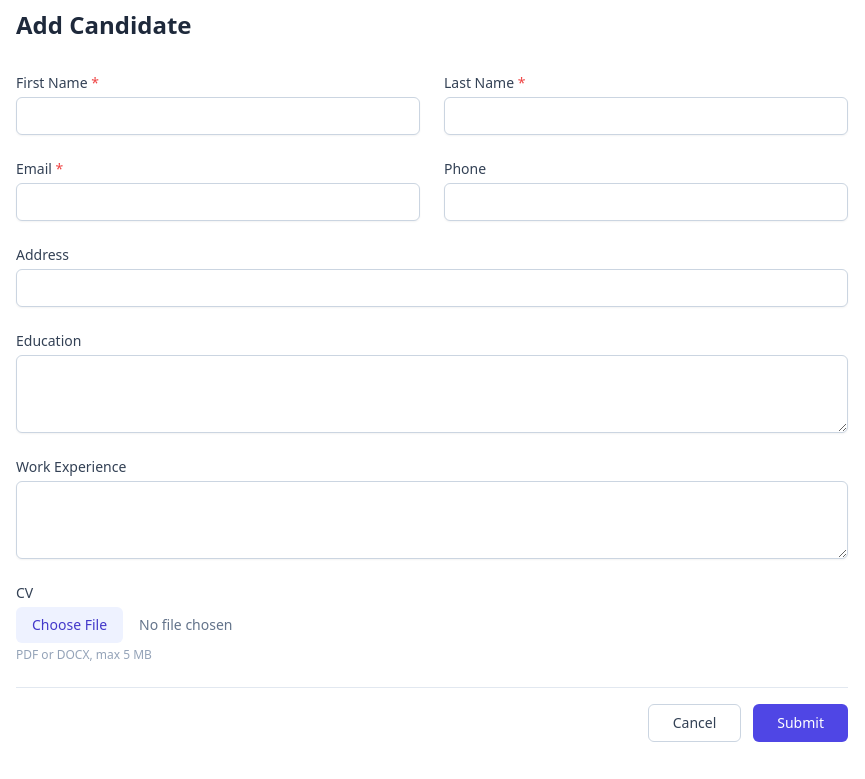
it: AddCandidate validation › shows inline error when email is invalid on submit
The image size is (865, 779).
Type "Alice" into the field labelled "First Name *" at (218, 116), box [16,97,420,135]
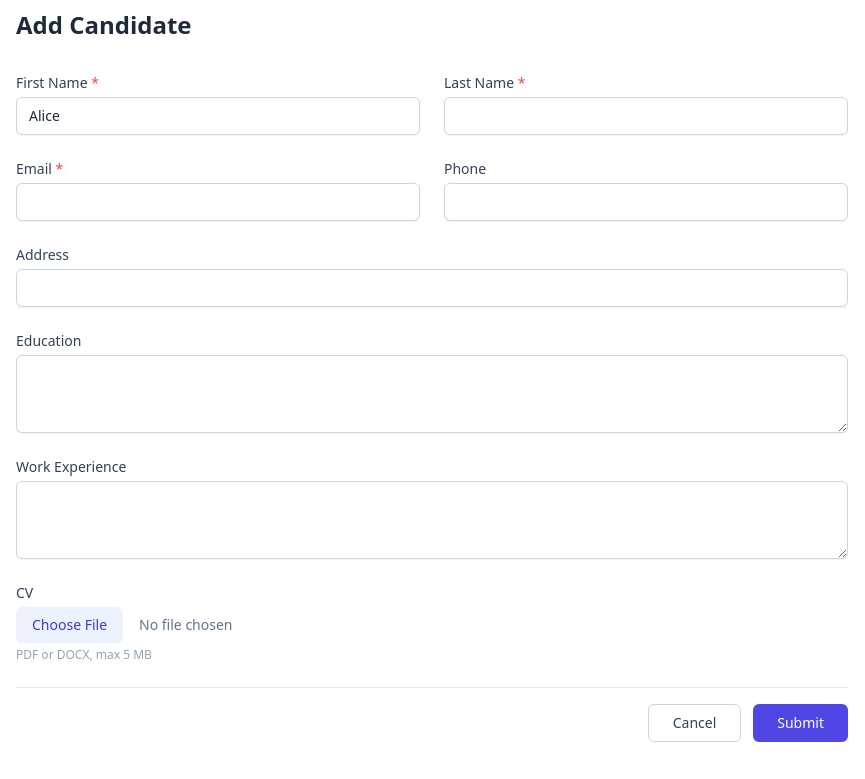
Type "Smith" into the field labelled "Last Name *" at (646, 116), box [444,97,848,135]
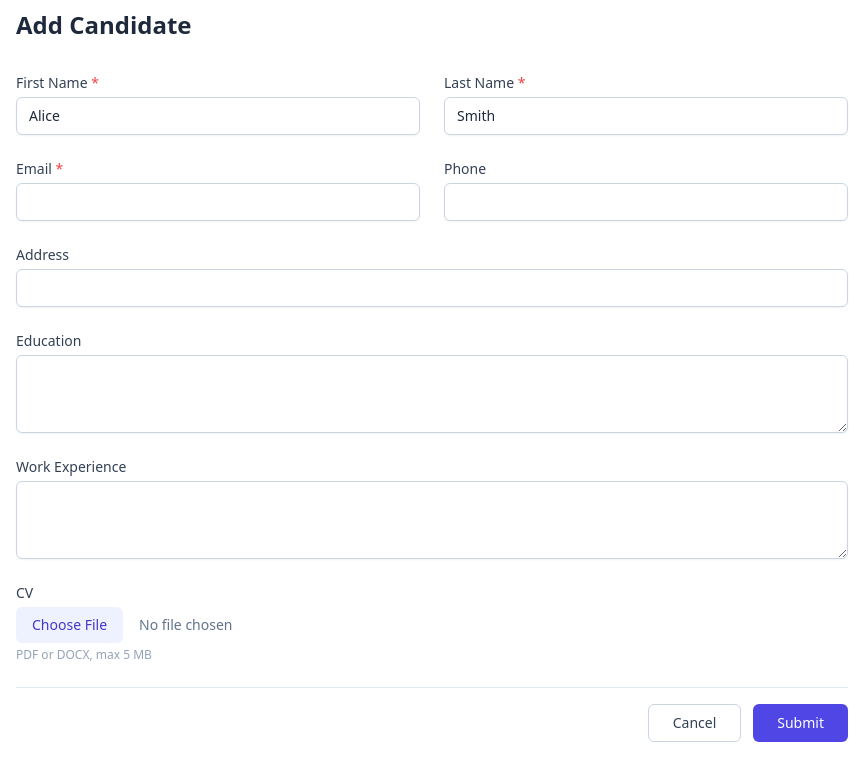
Type "not-an-email" into the field labelled "Email *" at (218, 202), box [16,183,420,221]
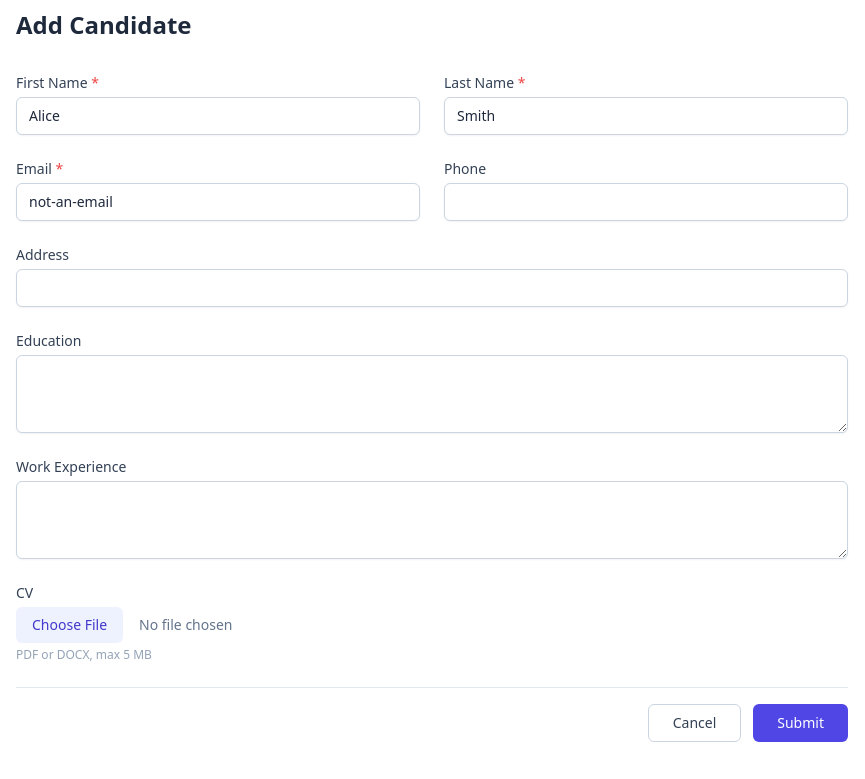
Click the button "Submit" at (801, 723), box [753,704,848,742]
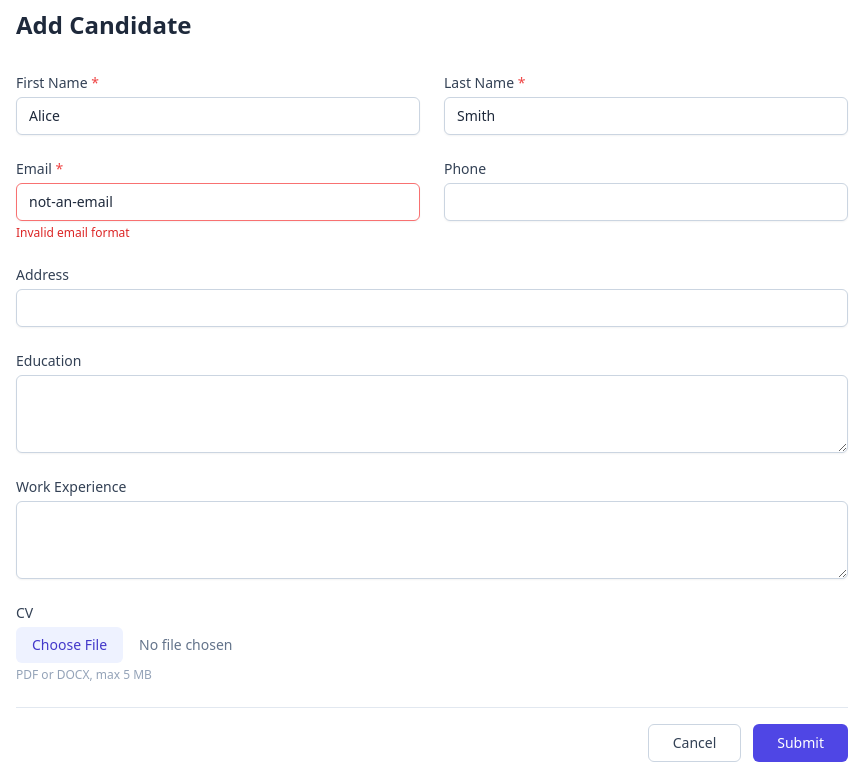
Result: the text "Invalid email format" is shown at [16,224,130,241]
